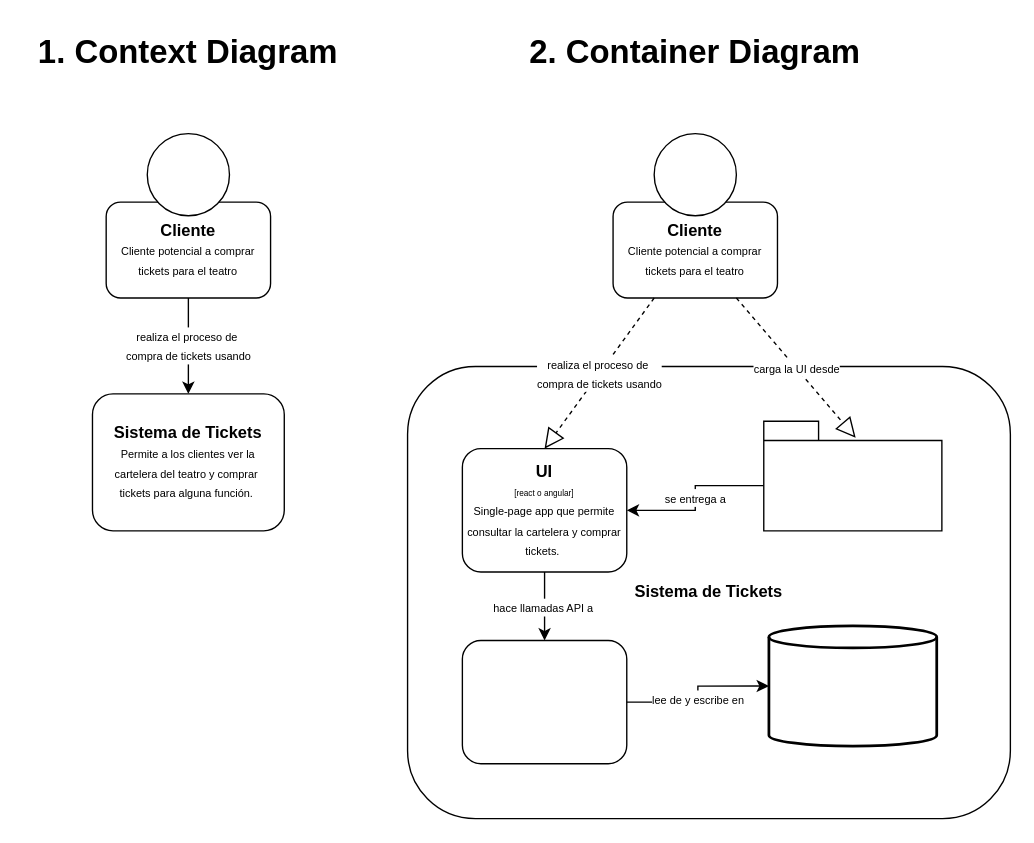
Some shapes in this 1034 by 843 pixel diagram are drawn without their labels. The centre of each missing label's shape, as x and y in pixels:
"Backend [ .net / c# ] Provee la información necesaria para el proceso de compra." goes at [544,701].
"Database [SQL server] Datos del teatro, del usuario, ventas, etc." goes at [852,685].
"Static Content HTML, CSS, JavaScript" goes at [852,475].
